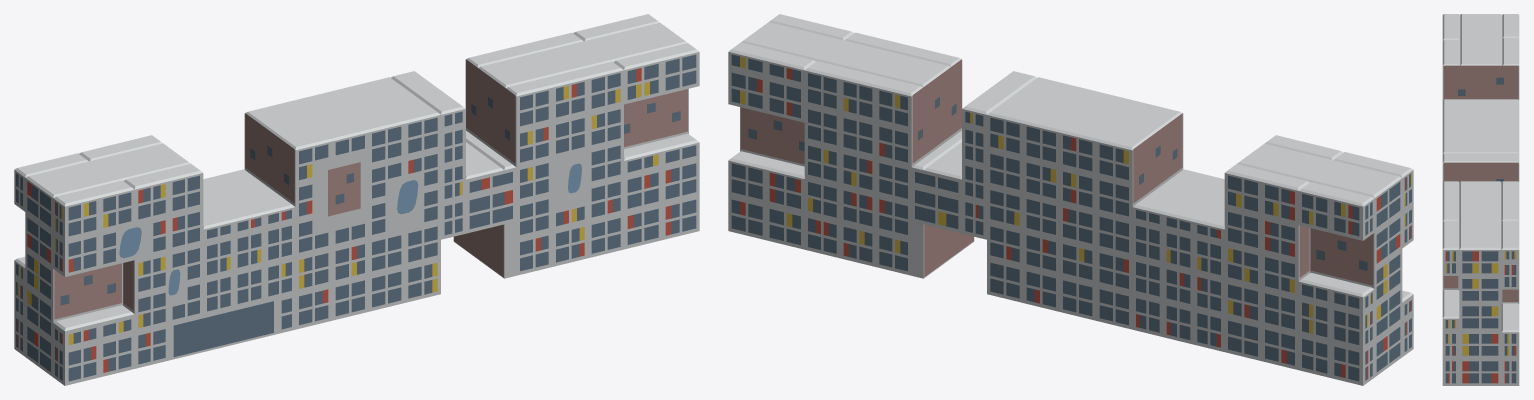
Rendered from bos-simmons-hall.glb.
The picture shows the model from 3 angles, left to right: view 1: azimuth 30°, elevation 25°; view 2: azimuth 150°, elevation 25°; view 3: azimuth 270°, elevation 25°; orthographic projection. The views are drawn at different scales.
Visible parts, largest first — view 1: Simmons Hall; view 2: Simmons Hall; view 3: Simmons Hall.
Part boxes in pixels (x1=…): Simmons Hall: x1=14, y1=14, x2=699, y2=385; Simmons Hall: x1=728, y1=14, x2=1413, y2=385; Simmons Hall: x1=1442, y1=14, x2=1519, y2=385.
Bounding box in the file's own units: 117 × 32 × 16.32.
